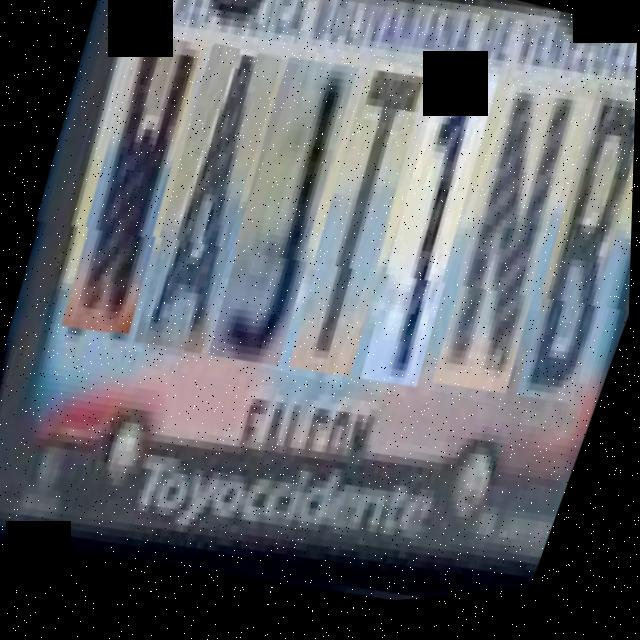1: (333, 73, 518, 411)
A: (108, 41, 302, 372)
B: (488, 98, 637, 433)
J: (185, 56, 378, 387)
N: (405, 83, 605, 423)
T: (263, 59, 452, 398)
W: (37, 27, 224, 350)
